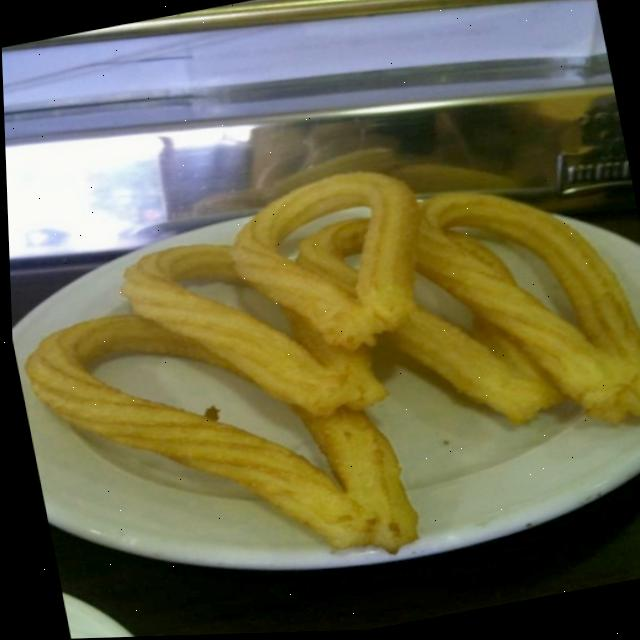炸货点心: (2, 44, 640, 640)
